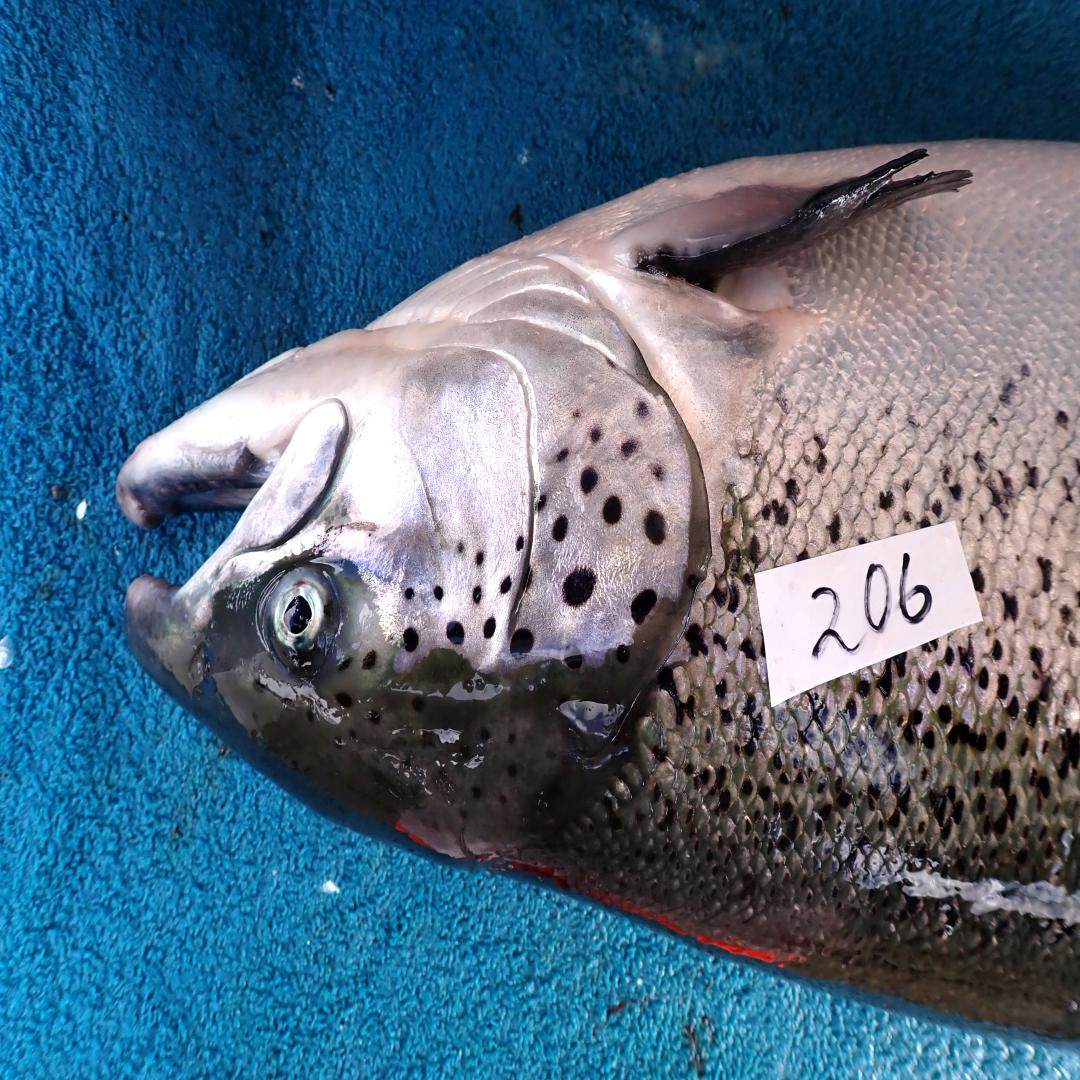roi: (347, 246, 704, 674)
